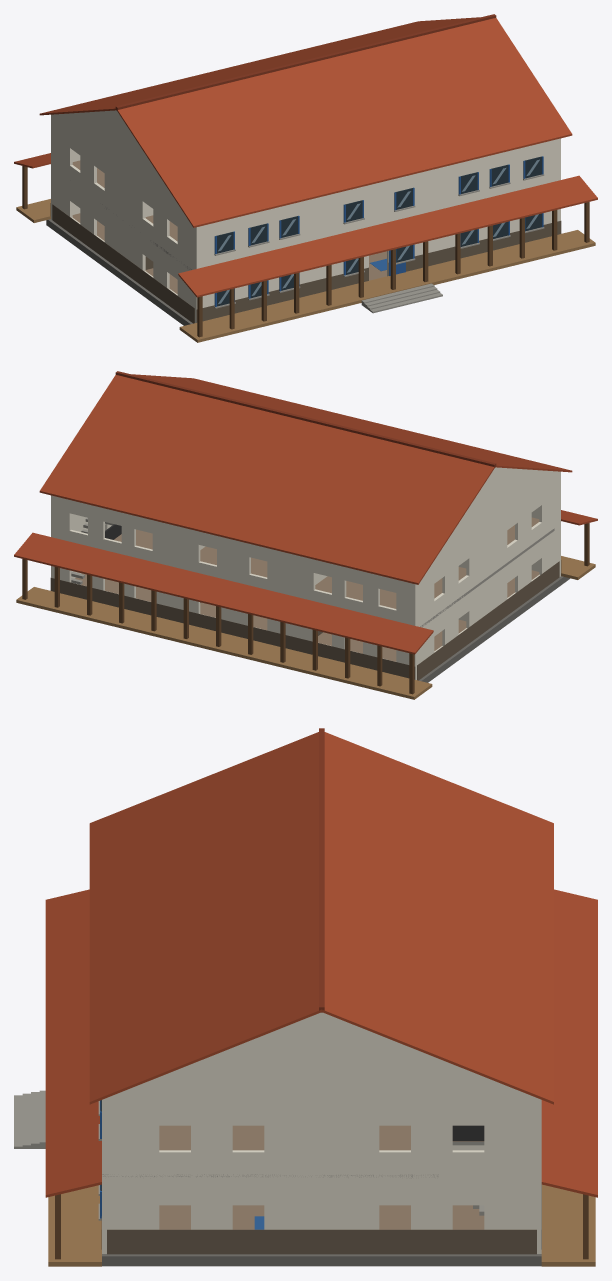
File: casarao_a.glb
The picture shows the model from 3 angles, top to bottom: view 1: azimuth 30°, elevation 25°; view 2: azimuth 150°, elevation 25°; view 3: azimuth 270°, elevation 25°; orthographic projection. The views are drawn at different scales.
Visible parts, largest first — view 1: casarao_a; view 2: casarao_a; view 3: casarao_a.
Part boxes in pixels (<box>): casarao_a: <box>14,14,597,342</box>; casarao_a: <box>14,371,597,699</box>; casarao_a: <box>14,728,597,1266</box>.
Bounding box in the file's own units: 28.6 × 11.83 × 23.9.
